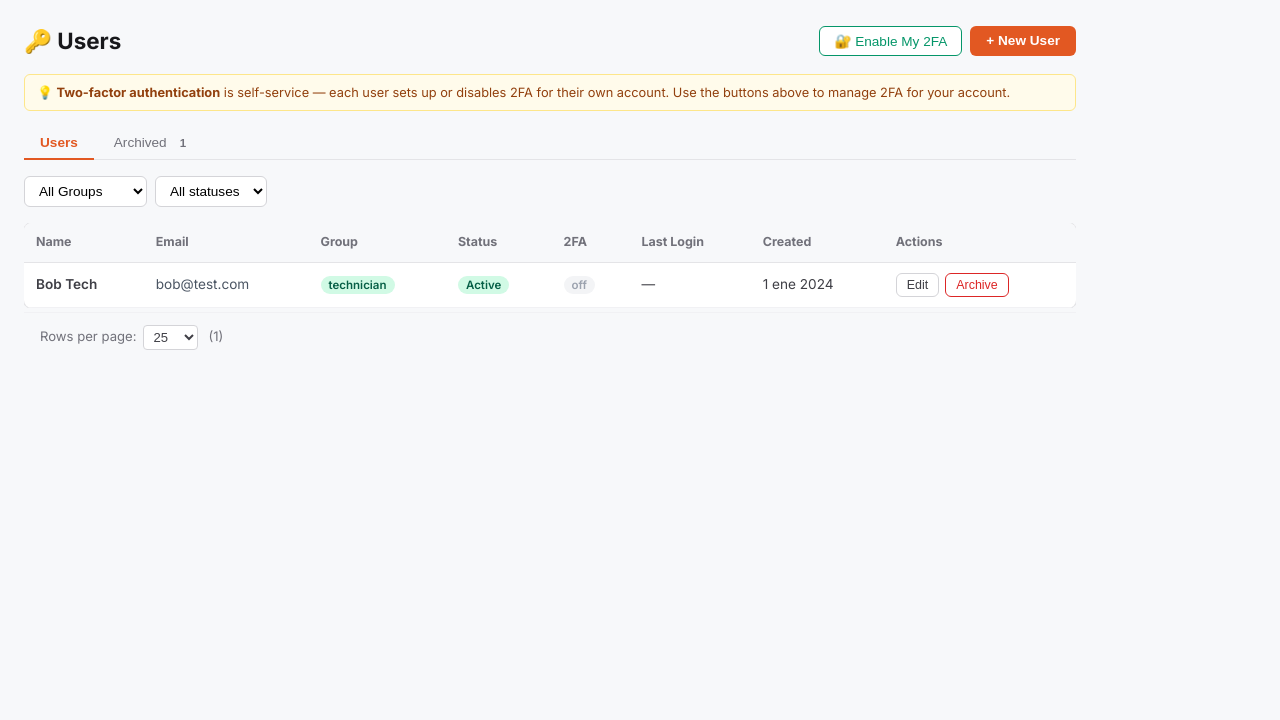
UserList page › Edit User modal — group + organization access › prefills group + org checkboxes from GET /users/:id/organizations
Expected: the text "bob@test.com" is shown, [144,262,308,307]
Step 1. Click the button "Edit" → (917, 284), box [896,272,939,296]
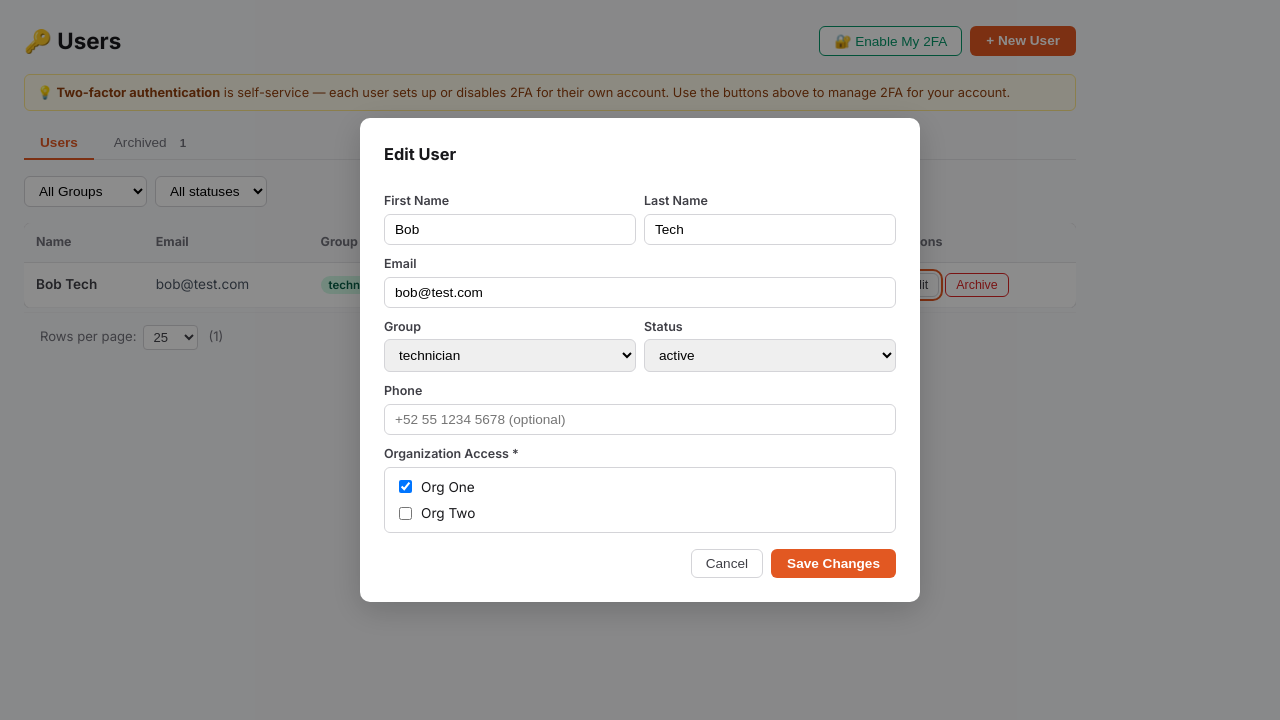
Now the dropdown named "Group" shows "technician", box [384,339,636,372]
Now the checkbox labelled "Org One" is checked, box [399,480,412,493]
Now the checkbox labelled "Org Two" is not checked, box [399,507,412,520]
